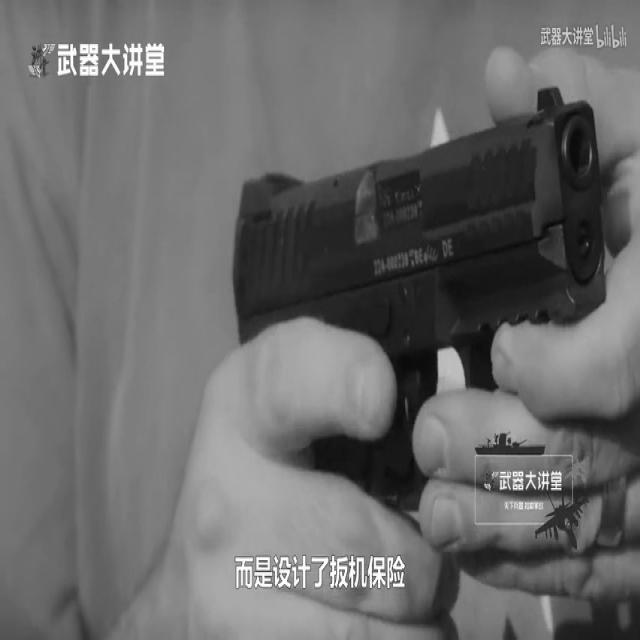Hand-Gun: (216, 70, 620, 522)
